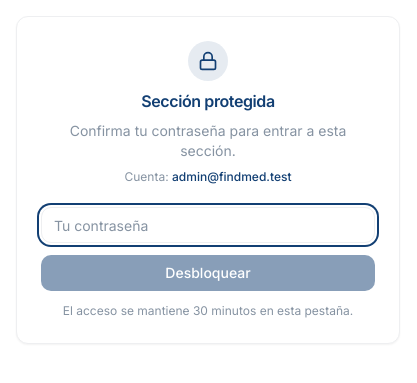
Test: PasswordGate › con la contraseña incorrecta no desbloquea y lo dice
Type "otra" into the password field labelled "Tu contraseña" at (208, 225), box [41, 207, 375, 243]
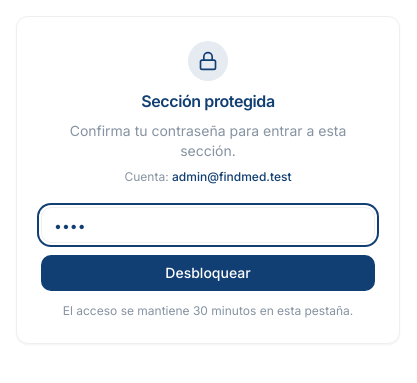
Click the button "Desbloquear" at (208, 273), box [41, 255, 375, 291]
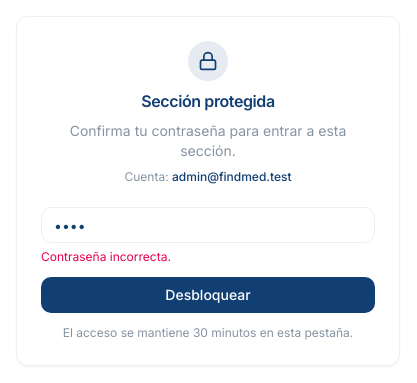
Check: the text "Contraseña incorrecta." is shown, box [41, 249, 171, 264]
